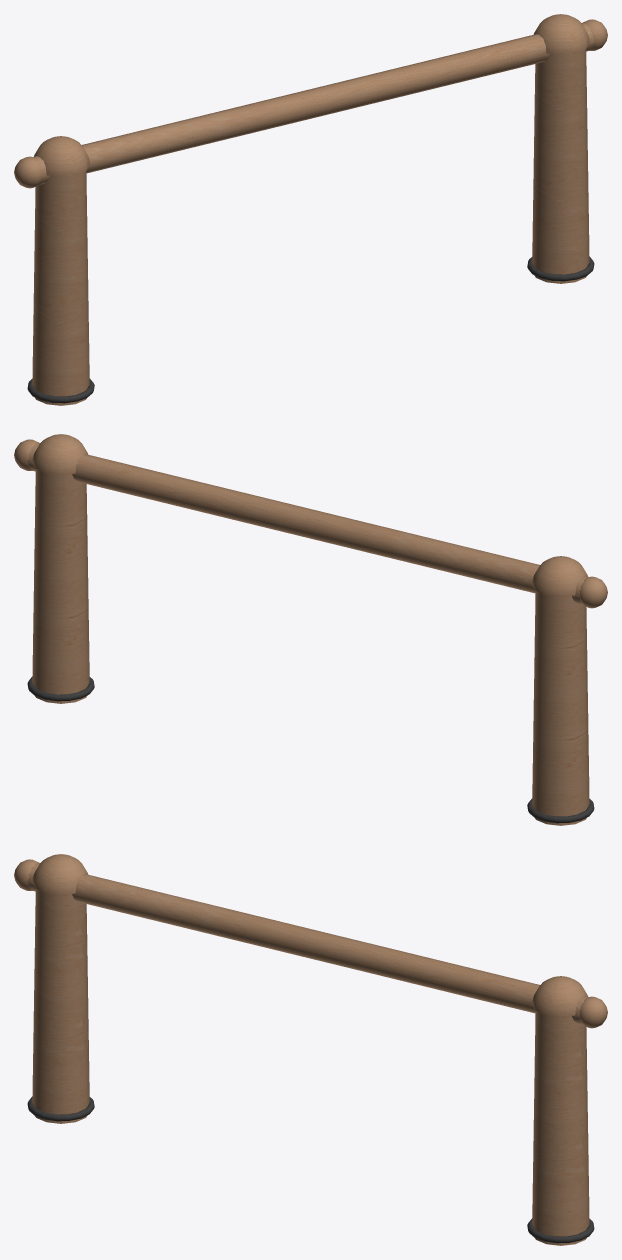
The model's file is Gate_Complete-v1.0.0.glb.
3 views of the same model, one above another, from view 1: azimuth 30°, elevation 25°; view 2: azimuth 150°, elevation 25°; view 3: azimuth 330°, elevation 25° (orthographic).
Parts seen in each view (by area): view 1: Geo_ArchBeam, Geo_RightPost, Geo_LeftPost, Geo_LeftCap, Geo_RightCap, Geo_LeftArchCap, Geo_LeftRing, Geo_RightRing; view 2: Geo_ArchBeam, Geo_RightPost, Geo_LeftPost, Geo_LeftCap, Geo_RightCap, Geo_LeftArchCap, Geo_LeftRing, Geo_RightRing; view 3: Geo_ArchBeam, Geo_LeftPost, Geo_RightPost, Geo_LeftCap, Geo_RightCap, Geo_RightArchCap, Geo_RightRing, Geo_LeftRing.
Boxes of the visible parts, x1,y1,x2,y2 form: Geo_ArchBeam: (33, 22, 594, 184); Geo_RightPost: (532, 49, 589, 283); Geo_LeftPost: (32, 171, 89, 405); Geo_LeftCap: (34, 136, 89, 176); Geo_RightCap: (533, 14, 589, 54); Geo_LeftArchCap: (14, 156, 42, 188); Geo_LeftRing: (27, 378, 94, 403); Geo_RightRing: (527, 257, 594, 281); Geo_ArchBeam: (27, 442, 588, 604); Geo_RightPost: (32, 469, 89, 703); Geo_LeftPost: (532, 591, 589, 825); Geo_LeftCap: (532, 556, 587, 596); Geo_RightCap: (32, 434, 88, 474); Geo_LeftArchCap: (579, 576, 607, 608); Geo_LeftRing: (527, 798, 594, 823); Geo_RightRing: (27, 677, 94, 701); Geo_ArchBeam: (27, 862, 588, 1024); Geo_LeftPost: (32, 889, 89, 1123); Geo_RightPost: (532, 1011, 589, 1245); Geo_LeftCap: (32, 854, 88, 894); Geo_RightCap: (532, 976, 587, 1016); Geo_RightArchCap: (579, 996, 607, 1028); Geo_RightRing: (527, 1218, 594, 1243); Geo_LeftRing: (27, 1097, 94, 1121).
Bounding box in the file's own units: 9.44 × 3.9 × 0.94.
3 materials, 2 textured.
